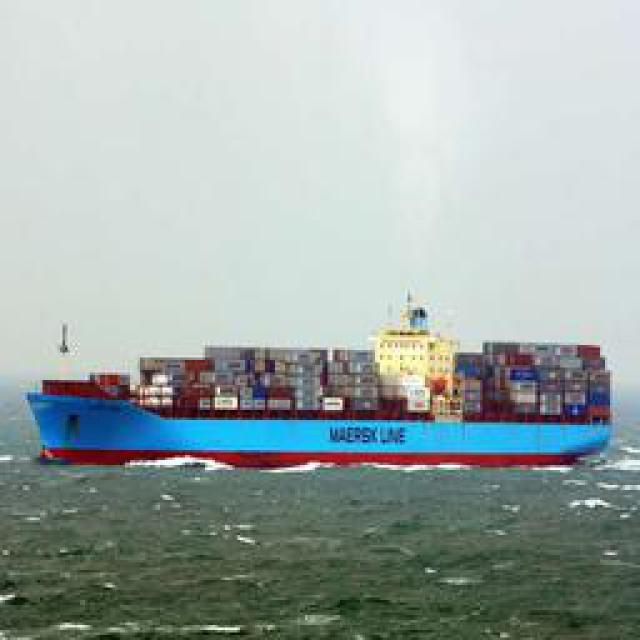Ship: (20, 318, 625, 476)
